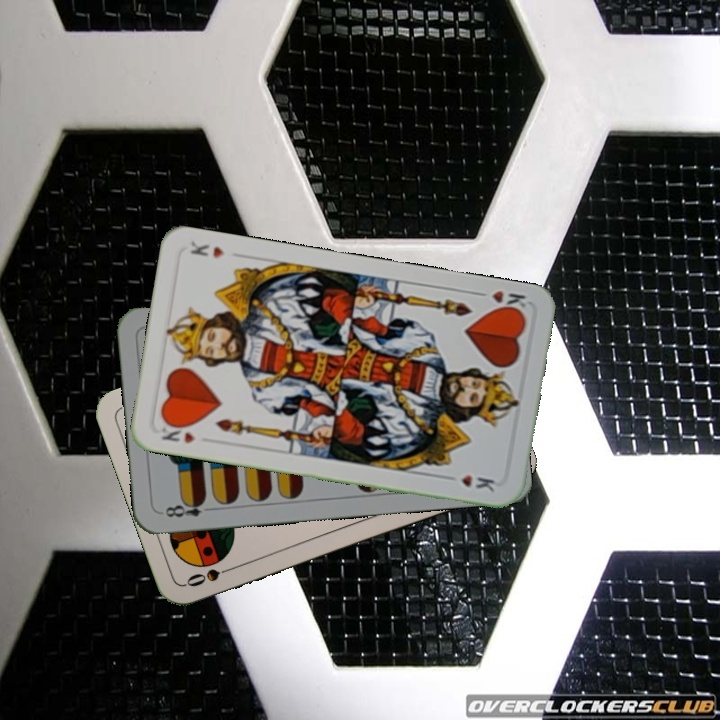E8: (161, 495, 217, 520)
HK: (471, 286, 529, 317), (157, 418, 198, 446)
SO: (182, 561, 240, 590)
